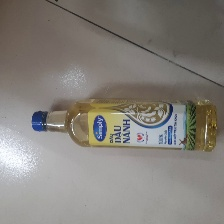Simply: (31, 96, 219, 155)
